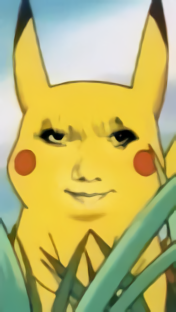dragon: (36, 121, 141, 203)
